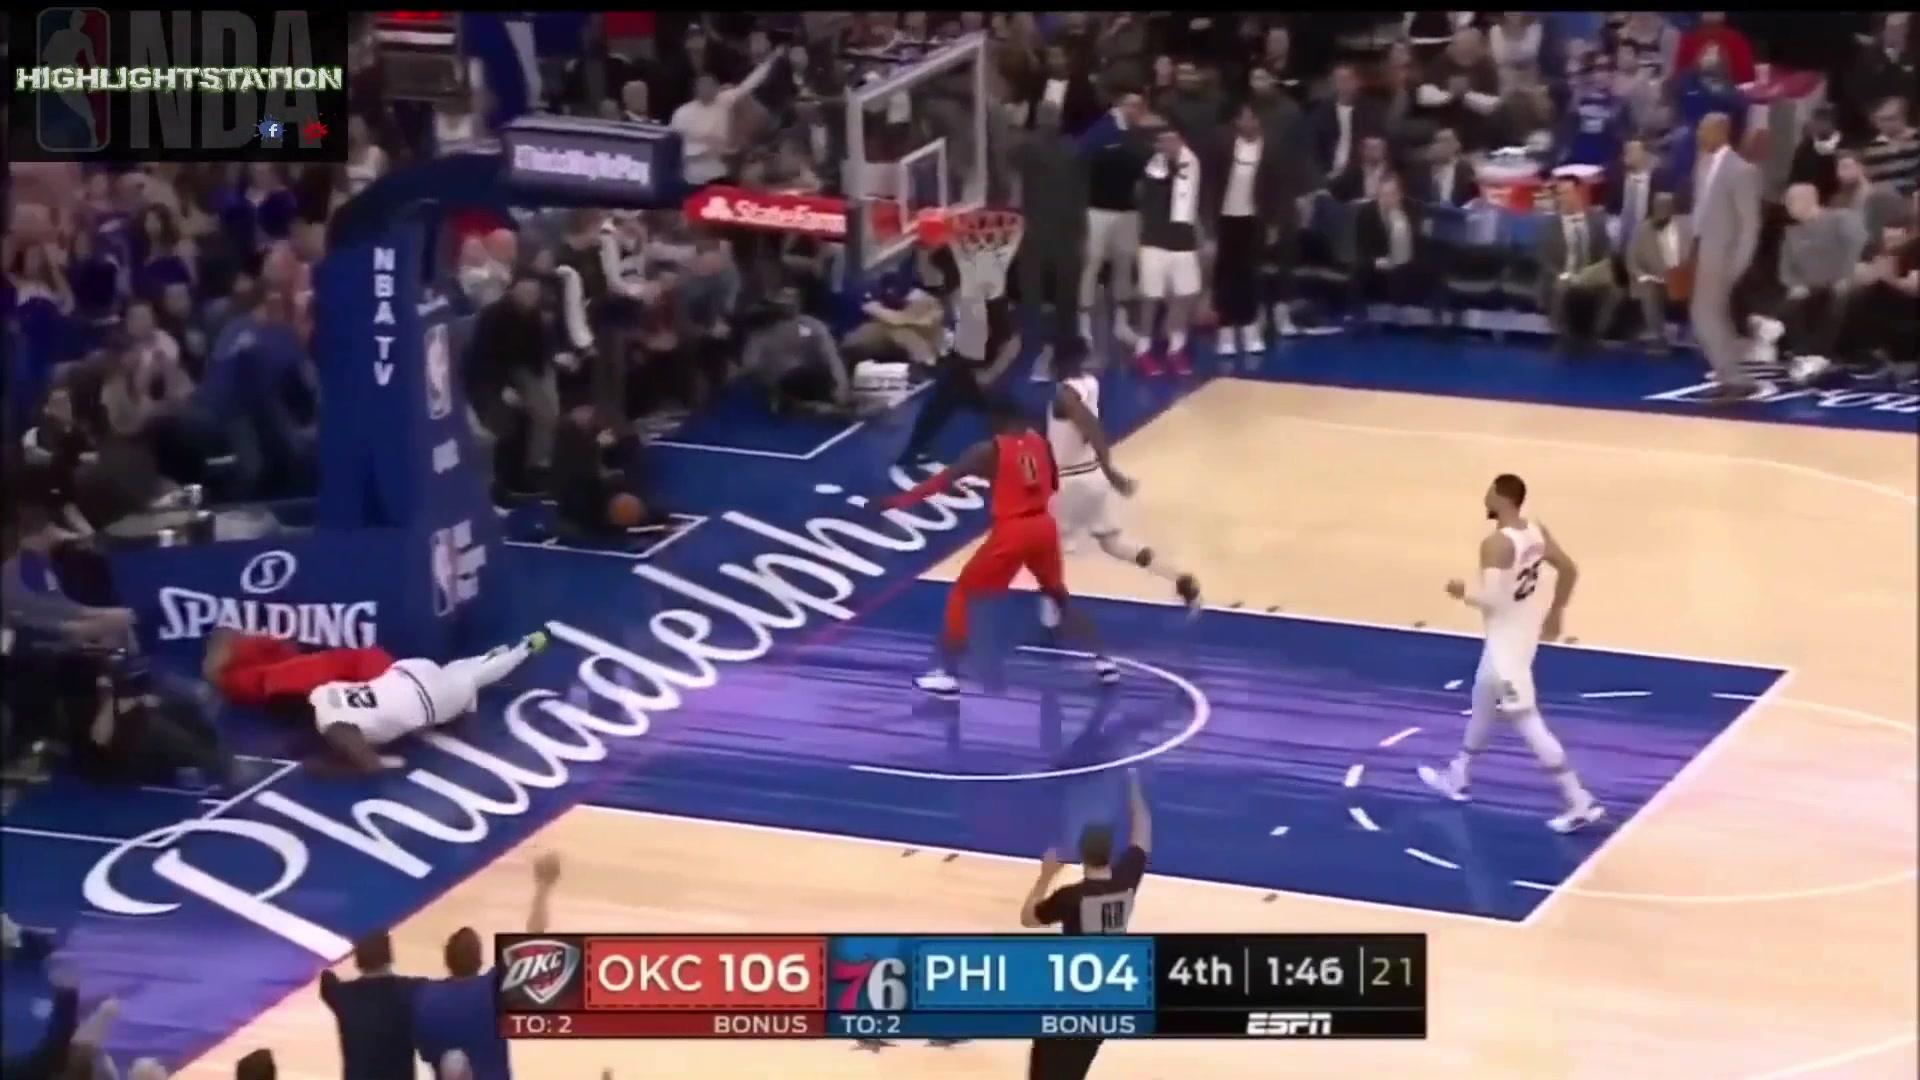no_foul: (902, 338, 1192, 704)
